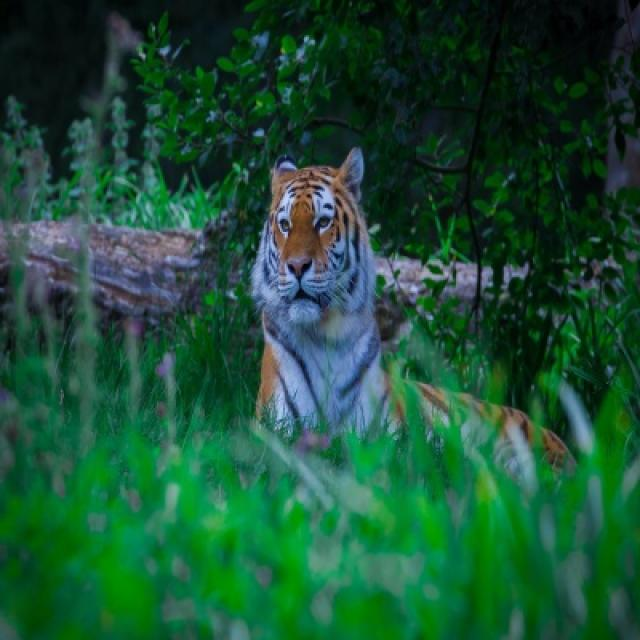Tiger: (248, 146, 578, 467)
